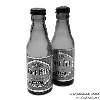beer: (26, 6, 54, 94)
